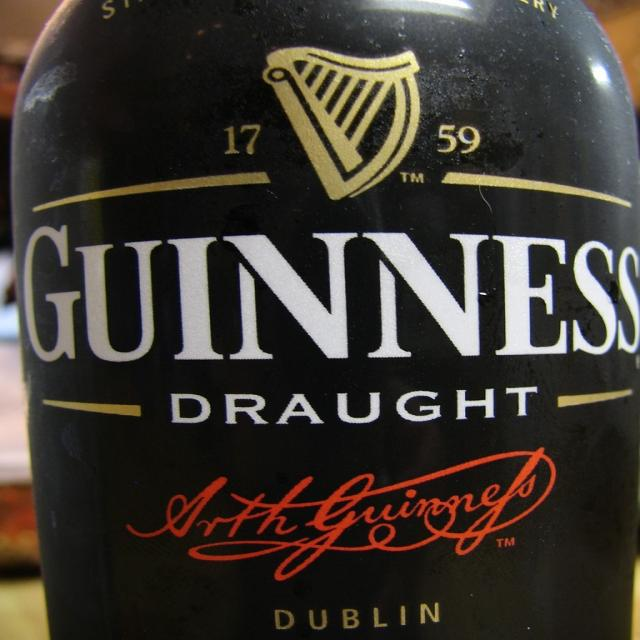guiness: (16, 44, 640, 375)
